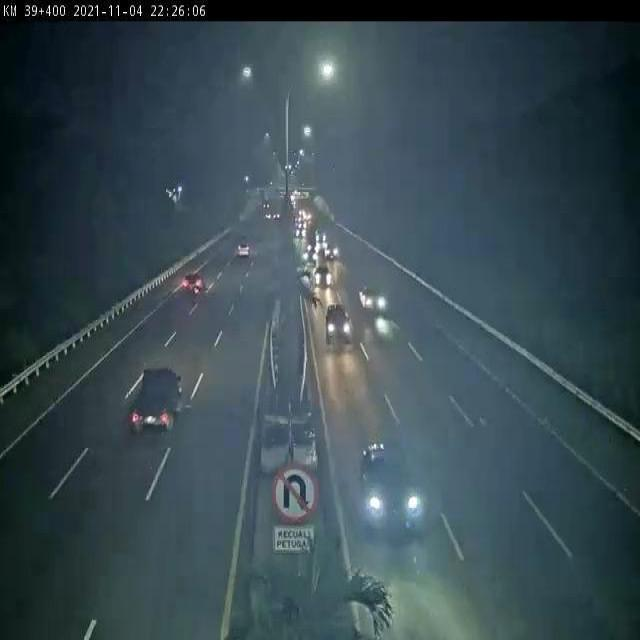car: (358, 443, 438, 541), (323, 300, 359, 363), (176, 272, 209, 308), (356, 284, 389, 315), (311, 265, 337, 291), (232, 243, 252, 267)
truck: (129, 358, 187, 442)
